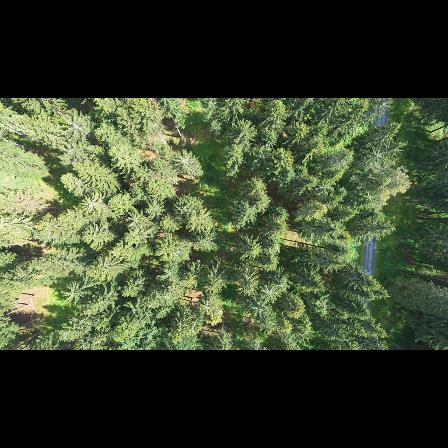Sick: (57, 108, 93, 138), (76, 192, 111, 216), (260, 280, 283, 305)
